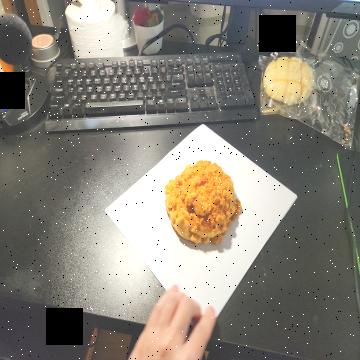soboru_bread: (162, 160, 242, 253)
